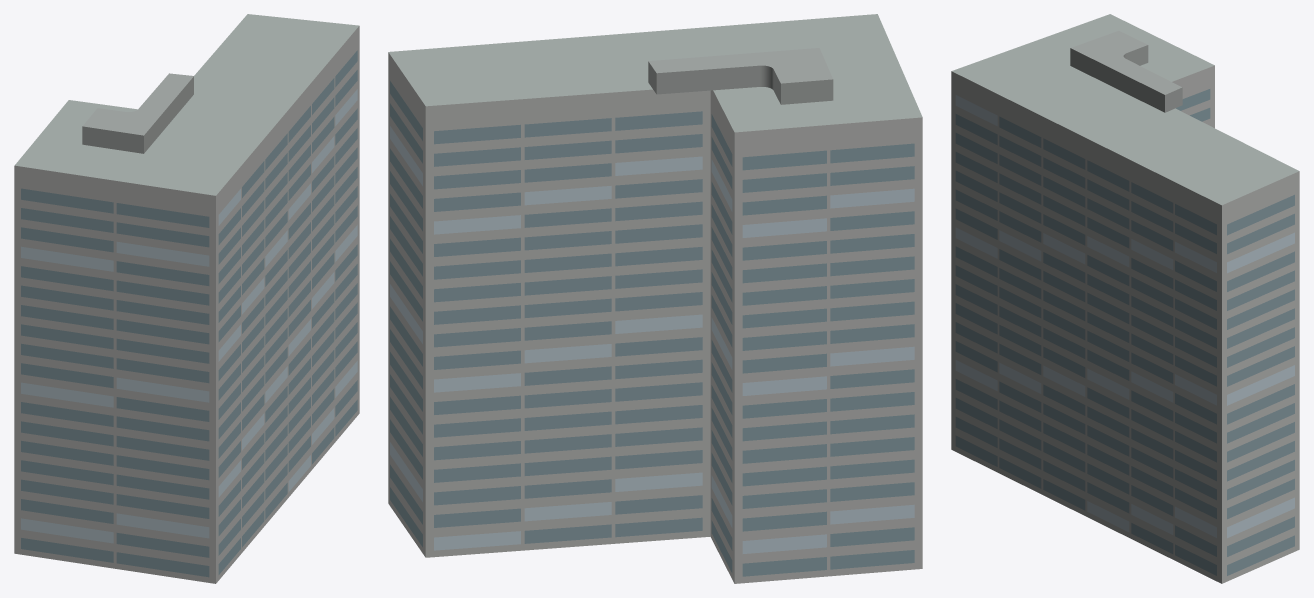
Rendered from apt-a12180404.glb.
The picture shows the model from 3 angles, left to right: view 1: azimuth 30°, elevation 25°; view 2: azimuth 150°, elevation 25°; view 3: azimuth 270°, elevation 25°; orthographic projection. The views are drawn at different scales.
Visible parts, largest first — view 1: apt-a12180404; view 2: apt-a12180404; view 3: apt-a12180404.
Part boxes in pixels (bbox=[...]): apt-a12180404: bbox=[14, 14, 359, 583]; apt-a12180404: bbox=[388, 14, 922, 583]; apt-a12180404: bbox=[951, 14, 1299, 583].
Bounding box in the file's own units: 54.9 × 53 × 42.19.
